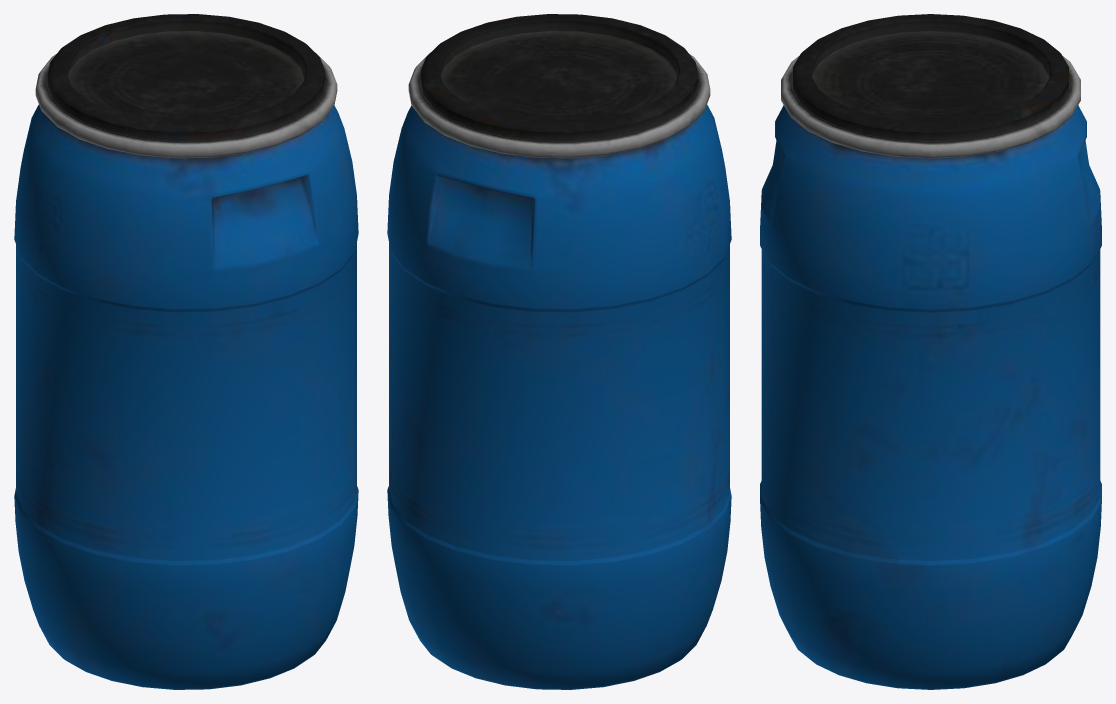
The model's file is Barrel_02.gltf.
3 renders of one model, left to right at view 1: azimuth 30°, elevation 25°; view 2: azimuth 150°, elevation 25°; view 3: azimuth 270°, elevation 25°, orthographic.
Visible parts, largest first — view 1: Barrel_02; view 2: Barrel_02; view 3: Barrel_02.
Boxes of the visible parts, x1,y1,x2,y2 form: Barrel_02: (14, 14, 358, 689); Barrel_02: (387, 14, 731, 689); Barrel_02: (760, 14, 1101, 689).
Bounding box in the file's own units: 0.4882 × 0.88 × 0.4846.
Materials: 1 (1 with a texture image).
